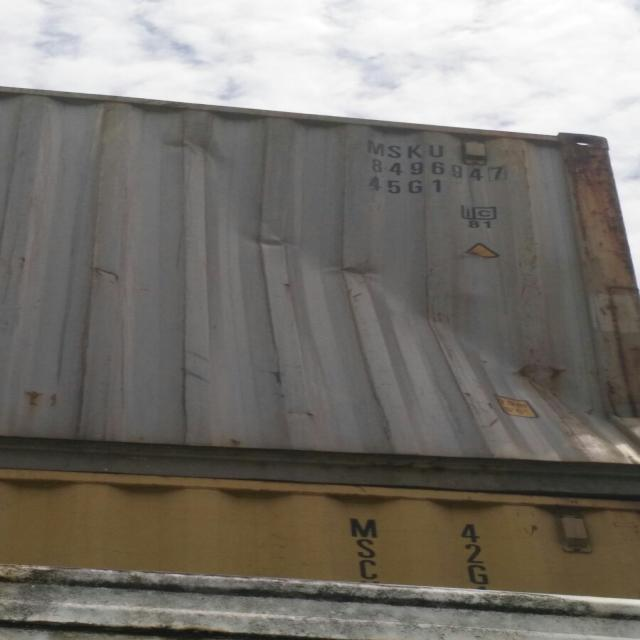dent: (307, 250, 615, 436), (136, 122, 252, 173), (600, 312, 640, 459), (224, 218, 307, 253)
